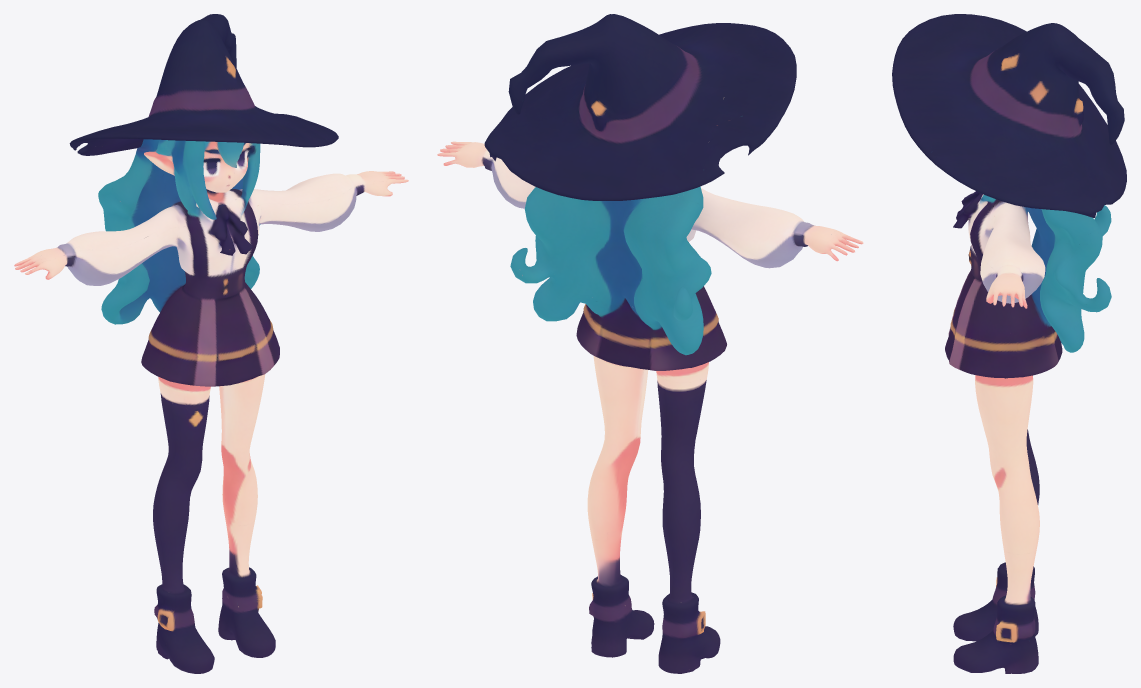
File: base_basic_shaded.fbx
The picture shows the model from 3 angles, left to right: view 1: azimuth 30°, elevation 25°; view 2: azimuth 150°, elevation 25°; view 3: azimuth 270°, elevation 25°; orthographic projection. The views are drawn at different scales.
Visible parts, largest first — view 1: model; view 2: model; view 3: model.
Part boxes in pixels (<box>): model: <box>14,14,408,673</box>; model: <box>437,14,863,673</box>; model: <box>892,14,1126,673</box>.
Size of the model in its own units: 126 by 190 by 63.8.
